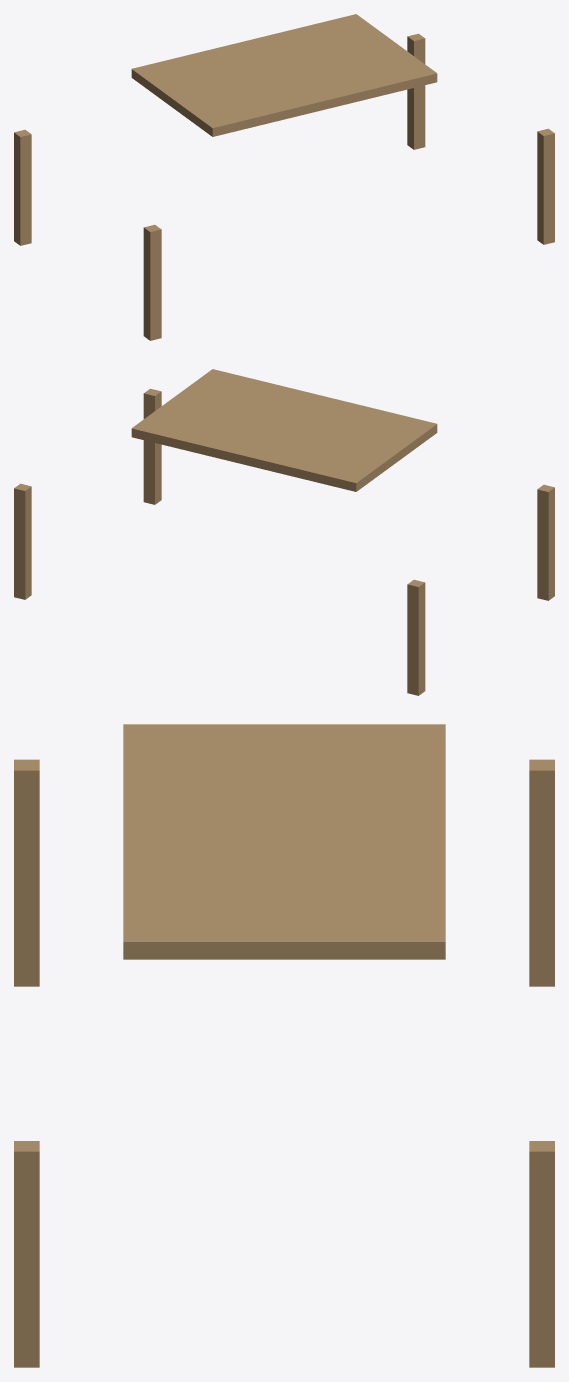
Rendered from tavern_table_2.glb.
The picture shows the model from 3 angles, top to bottom: view 1: azimuth 30°, elevation 25°; view 2: azimuth 150°, elevation 25°; view 3: azimuth 270°, elevation 25°; orthographic projection. The views are drawn at different scales.
Visible parts, largest first — view 1: tavern_table_2_top, tavern_table_2_leg, tavern_table_2_leg.002, tavern_table_2_leg.001, tavern_table_2_leg.003; view 2: tavern_table_2_top, tavern_table_2_leg.002, tavern_table_2_leg, tavern_table_2_leg.003, tavern_table_2_leg.001; view 3: tavern_table_2_top, tavern_table_2_leg, tavern_table_2_leg.002, tavern_table_2_leg.001, tavern_table_2_leg.003.
Boxes of the visible parts, x1=… form: tavern_table_2_top: x1=131, y1=14, x2=437, y2=136; tavern_table_2_leg: x1=143, y1=224, x2=161, y2=340; tavern_table_2_leg.002: x1=14, y1=129, x2=31, y2=245; tavern_table_2_leg.001: x1=537, y1=128, x2=554, y2=244; tavern_table_2_leg.003: x1=407, y1=33, x2=425, y2=149; tavern_table_2_top: x1=131, y1=369, x2=437, y2=491; tavern_table_2_leg.002: x1=407, y1=579, x2=425, y2=695; tavern_table_2_leg: x1=537, y1=484, x2=554, y2=600; tavern_table_2_leg.003: x1=14, y1=483, x2=31, y2=599; tavern_table_2_leg.001: x1=143, y1=388, x2=161, y2=504; tavern_table_2_top: x1=123, y1=724, x2=445, y2=959; tavern_table_2_leg: x1=14, y1=759, x2=39, y2=986; tavern_table_2_leg.002: x1=529, y1=759, x2=554, y2=986; tavern_table_2_leg.001: x1=14, y1=1141, x2=39, y2=1367; tavern_table_2_leg.003: x1=529, y1=1141, x2=554, y2=1367.
Size of the model in its own units: 1.44 by 0.58 by 0.84.
